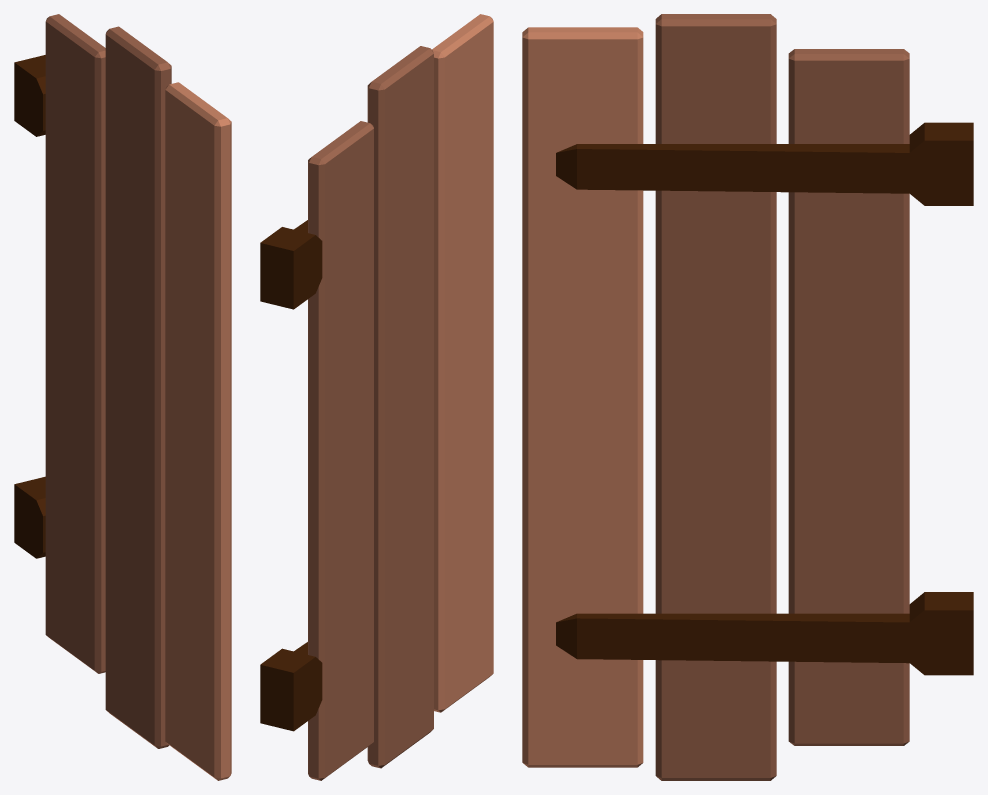
Rendered from Shutter B.glb.
3 views of the same model, side by side, from view 1: azimuth 30°, elevation 25°; view 2: azimuth 150°, elevation 25°; view 3: azimuth 270°, elevation 25° (orthographic). The views are drawn at different scales.
Visible parts, largest first — view 1: Shutter B; view 2: Shutter B; view 3: Shutter B.
Part boxes in pixels (x1=…): Shutter B: x1=14, y1=14, x2=231, y2=780; Shutter B: x1=260, y1=14, x2=493, y2=780; Shutter B: x1=522, y1=14, x2=973, y2=780.
Bounding box in the file's own units: 0.0162 × 0.3162 × 0.1697.
